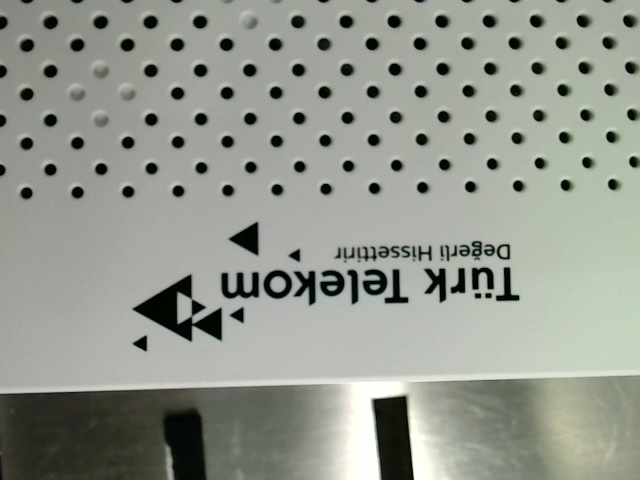AQ_TURKTelekom: (107, 220, 531, 360)
